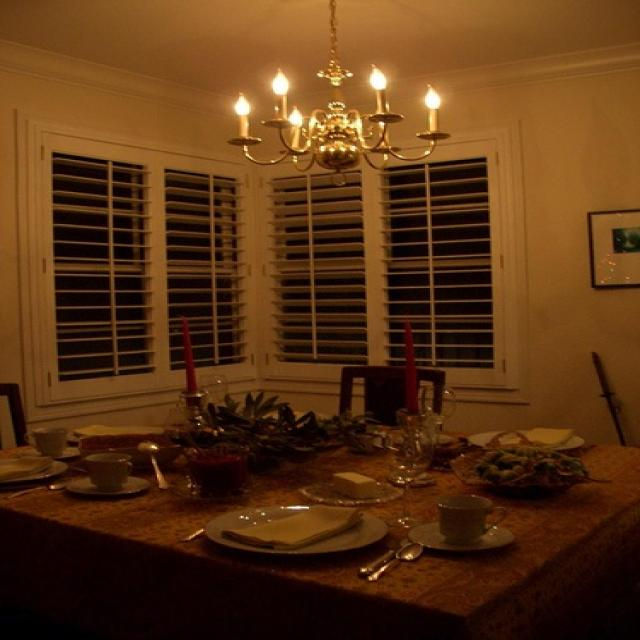chair: (332, 361, 465, 430)
diningtable: (6, 414, 639, 640)
